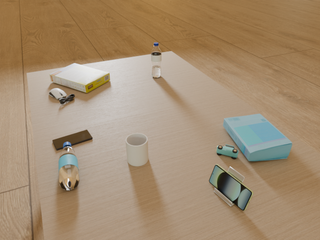book: (223, 114, 292, 161)
bottle: (59, 142, 79, 190), (151, 43, 161, 78)
box: (50, 63, 110, 93)
cup: (126, 133, 148, 166)
mouse: (49, 88, 67, 99)
phone: (209, 164, 253, 211), (53, 130, 92, 150)
toy_car: (216, 145, 238, 159)
